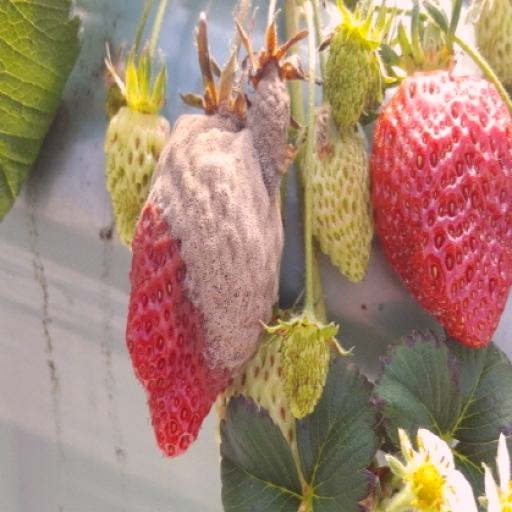Gray Mold: (226, 12, 380, 396), (191, 15, 289, 192)
